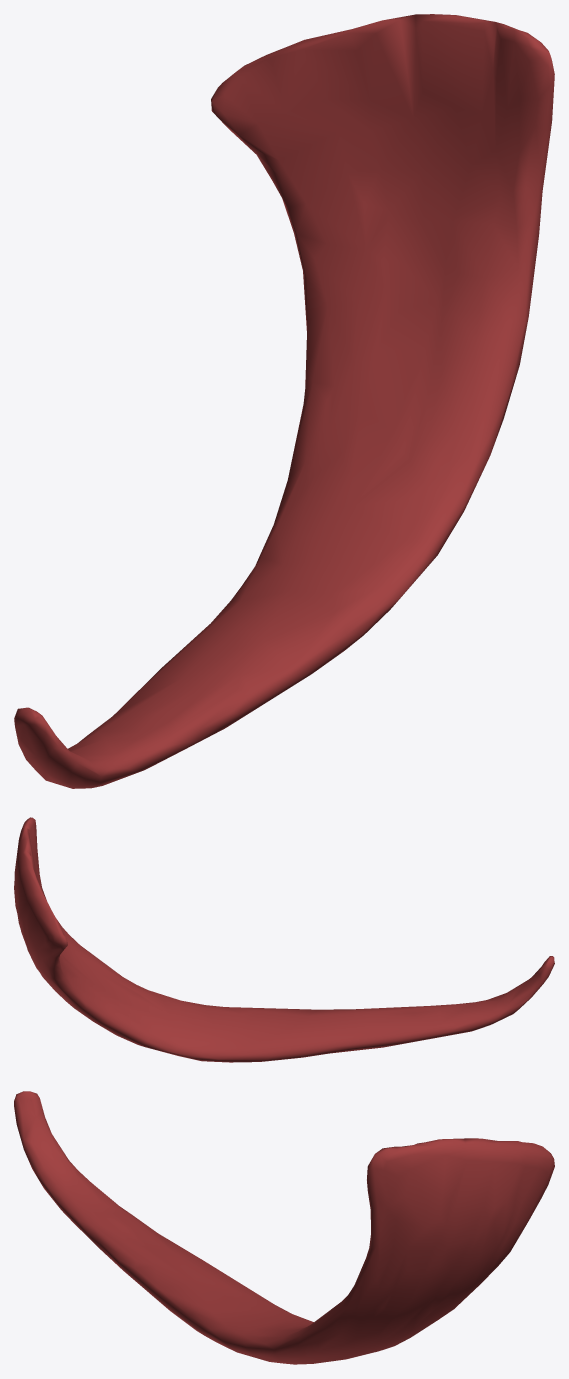
Rendered from inferior-oblique-muscle-l.glb.
3 renders of one model, top to bottom at view 1: azimuth 30°, elevation 25°; view 2: azimuth 150°, elevation 25°; view 3: azimuth 270°, elevation 25°, orthographic. The views are drawn at different scales.
Parts seen in each view (by area): view 1: Inferior oblique muscle.l; view 2: Inferior oblique muscle.l; view 3: Inferior oblique muscle.l.
Part boxes in pixels (left/top/right/bottom): Inferior oblique muscle.l: left=14, top=14, right=554, bottom=788; Inferior oblique muscle.l: left=14, top=817, right=554, bottom=1062; Inferior oblique muscle.l: left=14, top=1091, right=554, bottom=1364.
Bounding box in the file's own units: 0.0294 × 0.0162 × 0.026.
